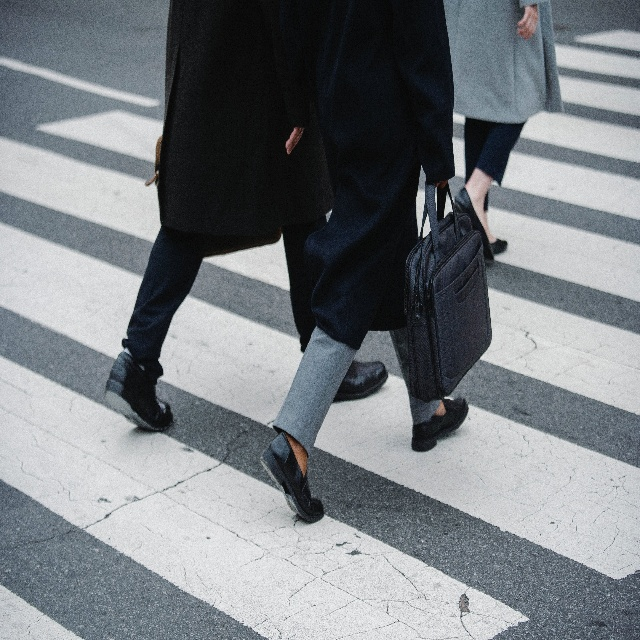Sin_guantes: (517, 2, 539, 41), (285, 125, 306, 156)
